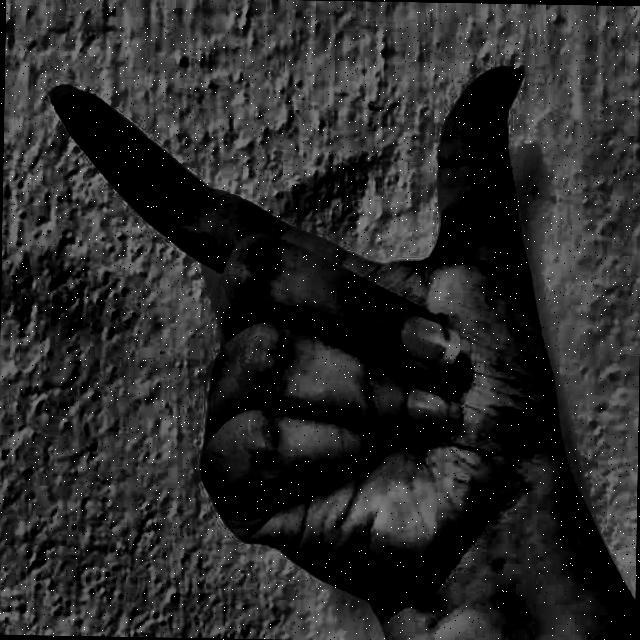ChandraBindu: (20, 11, 568, 618)
